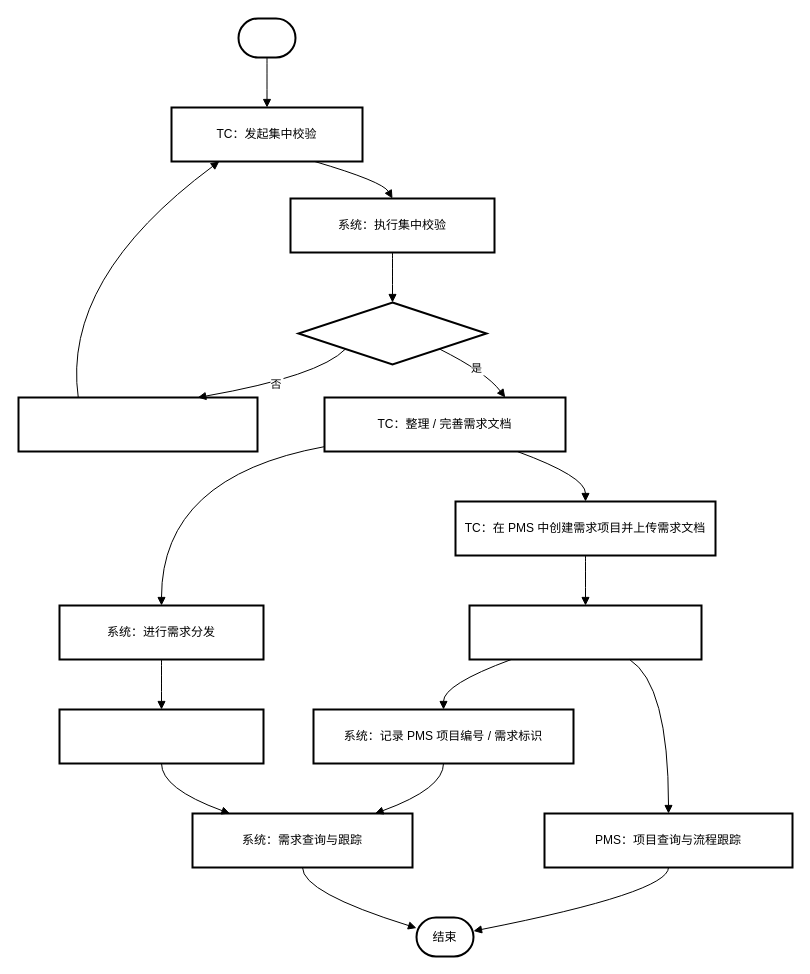
Some shapes in this 810 by 974 pixel diagram are drawn without their labels. Here are the shapes that lost their labels. From the top down, the centre of each, then its label:
At [266,37]: "开始".
At [392,333]: "集中校验是否通过?".
At [137,424]: "TC：补充或修改需求信息".
At [585,632]: "PMS：形成需求项目记录".
At [161,736]: "系统：记录分发结果".
